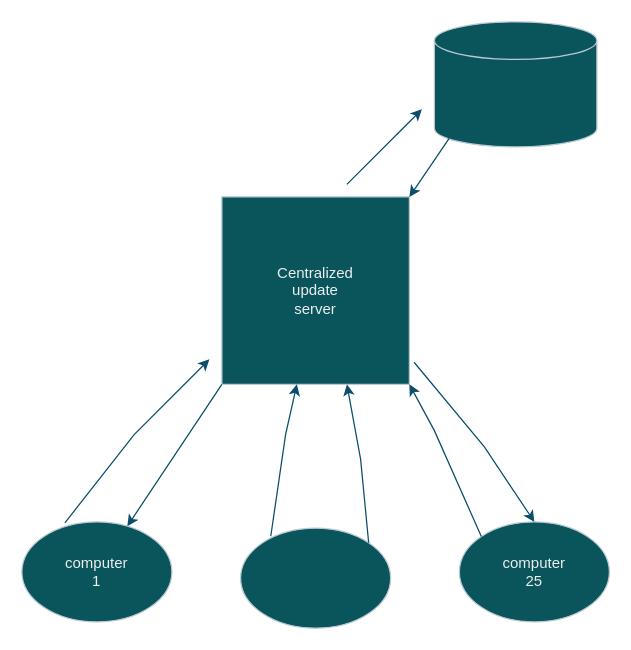
This 631x650 diagram has some shape labels left out. The box of each missing label's shape, as (x1, y1, x2, y2) in pixels:
computer 2: (239, 527, 391, 628)
DB: (433, 21, 597, 147)
